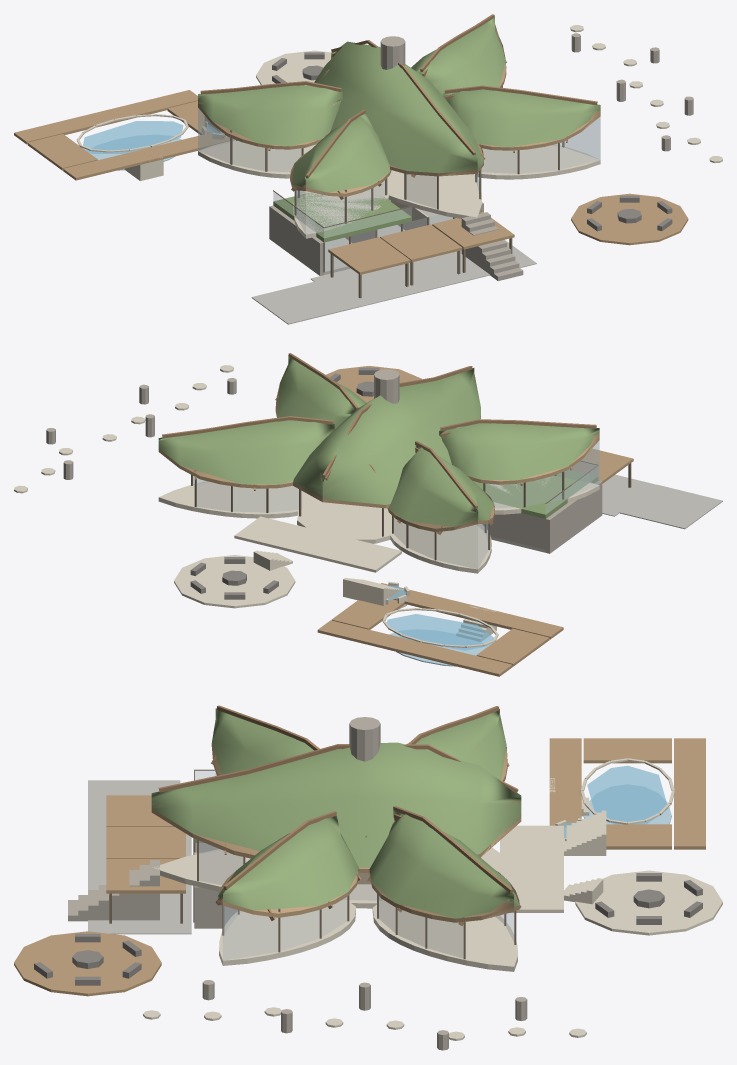
File: oak-leaf-massing.lod2.glb
3 views of the same model, one above another, from view 1: azimuth 30°, elevation 25°; view 2: azimuth 150°, elevation 25°; view 3: azimuth 270°, elevation 25° (orthographic). The views are drawn at different scales.
Size of the model in its own units: 55.45 by 14.8 by 49.9.
